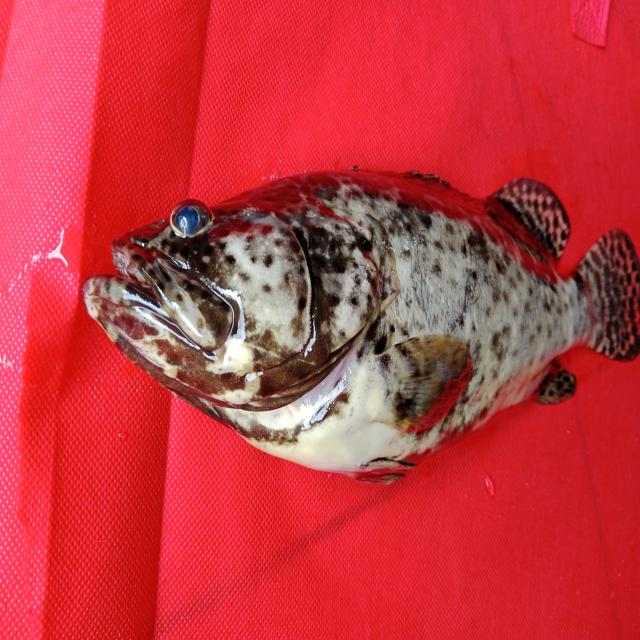ikan: (68, 148, 637, 494)
